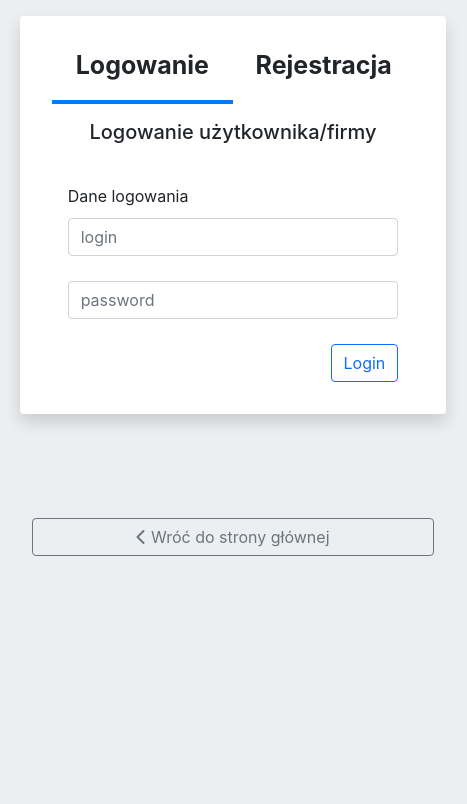
Scenario: AuthenticationPanel component tests › should render back LogIn component after switching back from SignUp component
This screenshot has width=467, height=804.
Step 1. Click the text "Rejestracja" → (324, 65), box [256,50,392,80]
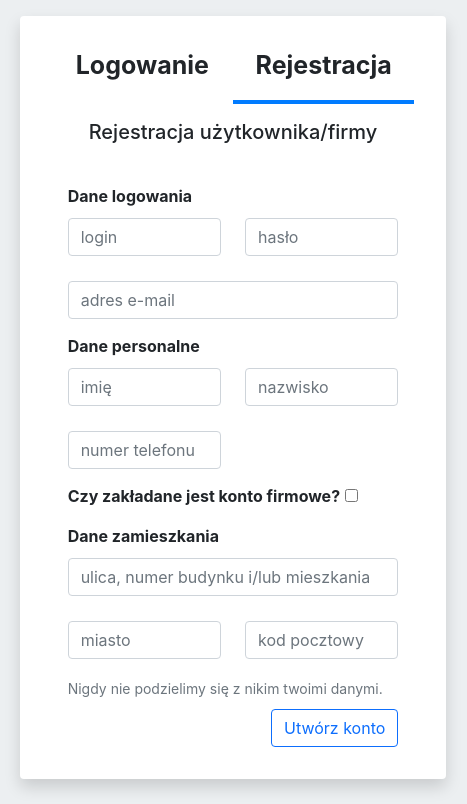
Step 2. Click the text "Logowanie" → (142, 65), box [76,50,209,80]
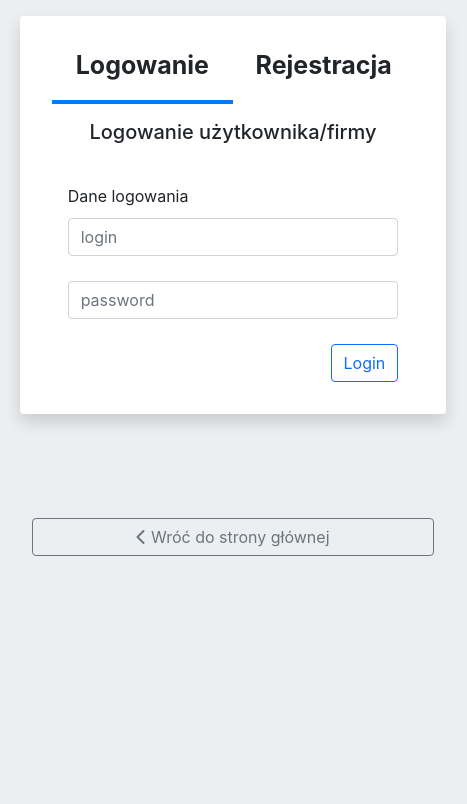
Check: the heading "Logowanie użytkownika/firmy" is shown, box [68,120,398,144]
